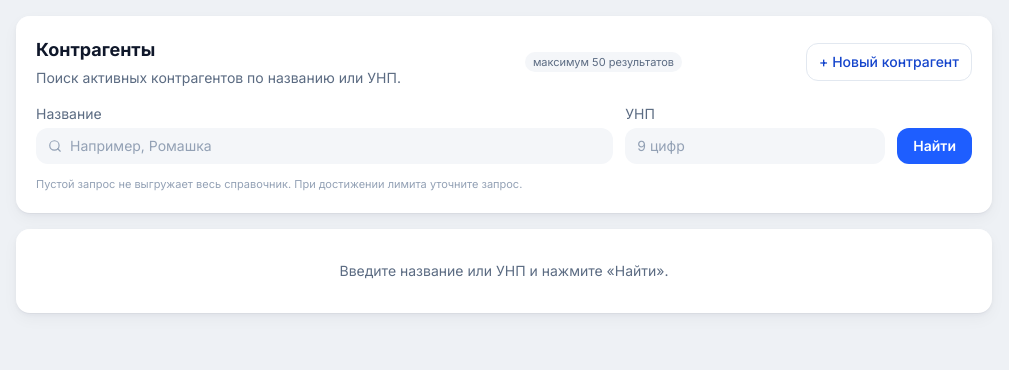
SpravCounterparties › не позволяет второму ответу быть перезаписанным запоздалым первым ответом
The width and height of the screenshot is (1009, 370).
In the field labelled "Название": (336, 146) [70,136,601,156], type "Первый"
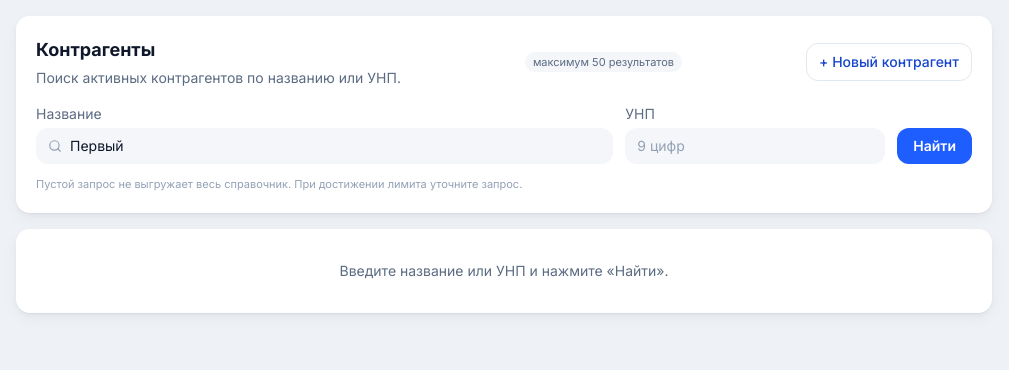
Click the button "Найти": (935, 146) [897,128,972,164]
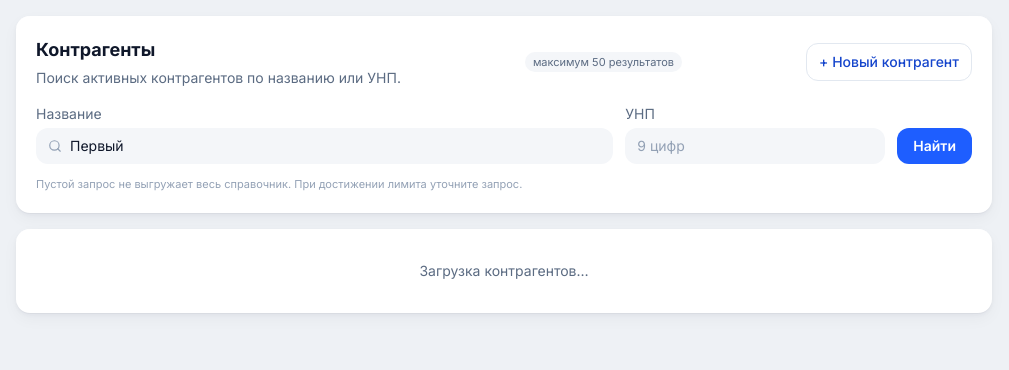
Replace the text in the field labelled "Название" with "Второй": (336, 146) [70,136,601,156]
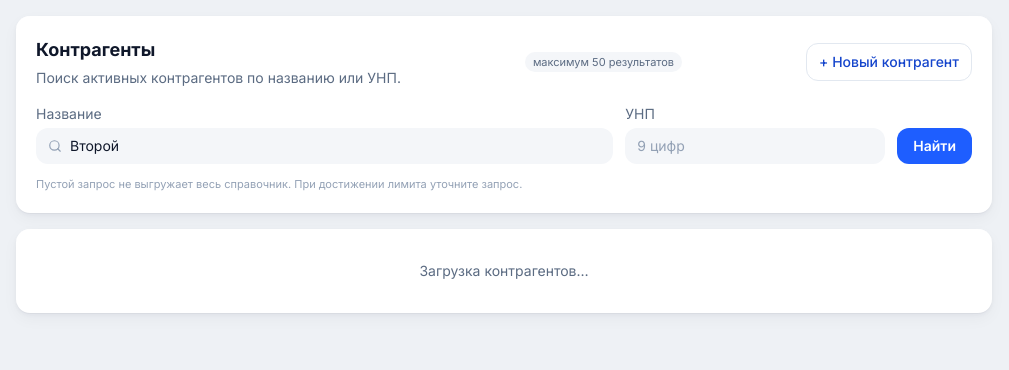
Click the button "Найти": (935, 146) [897,128,972,164]
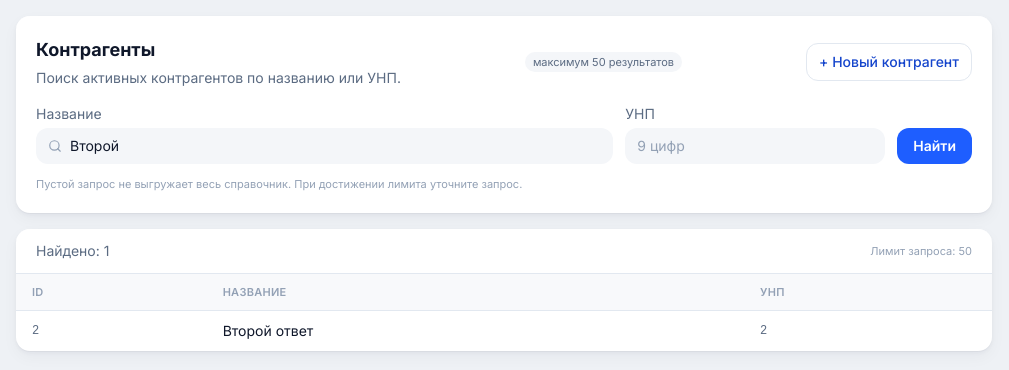
Expected: the text "Второй ответ" is shown, [207,310,744,350]
Expected: the text "Второй ответ" shows "2", [32,324,39,338]
